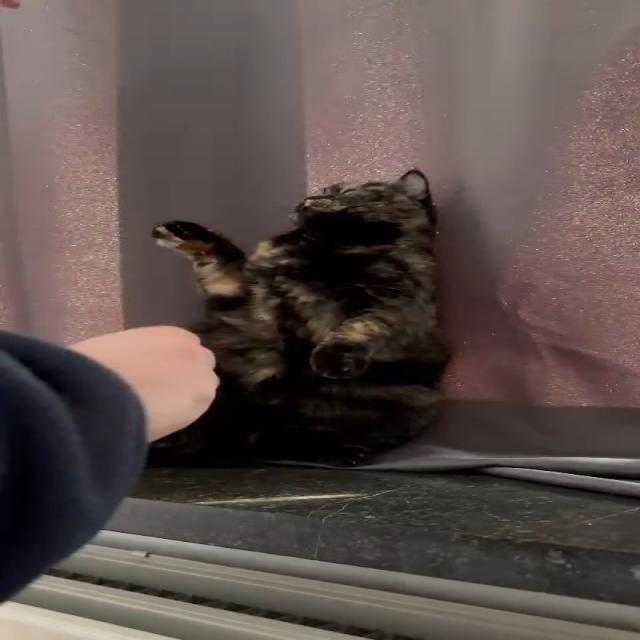authorized: (148, 167, 452, 468)
